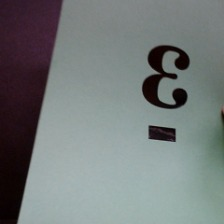green3: (139, 42, 195, 153)
